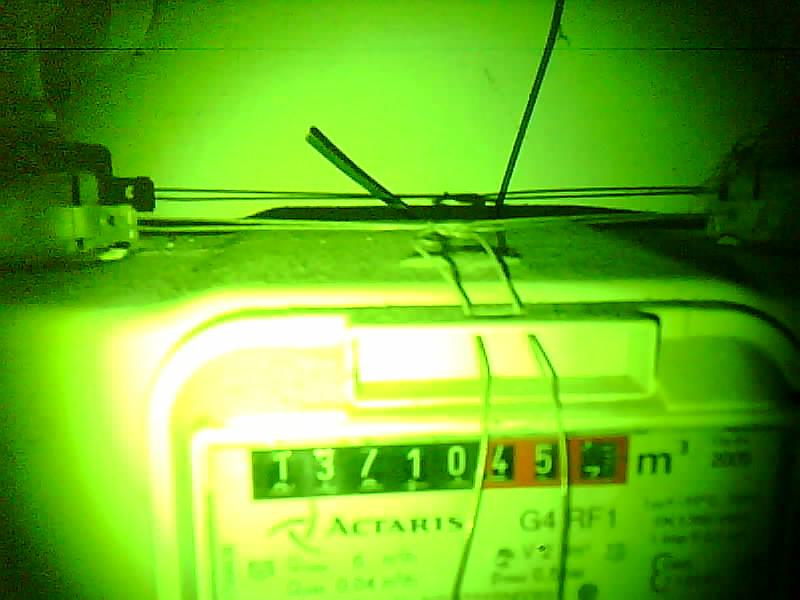nums: (248, 432, 631, 501)
